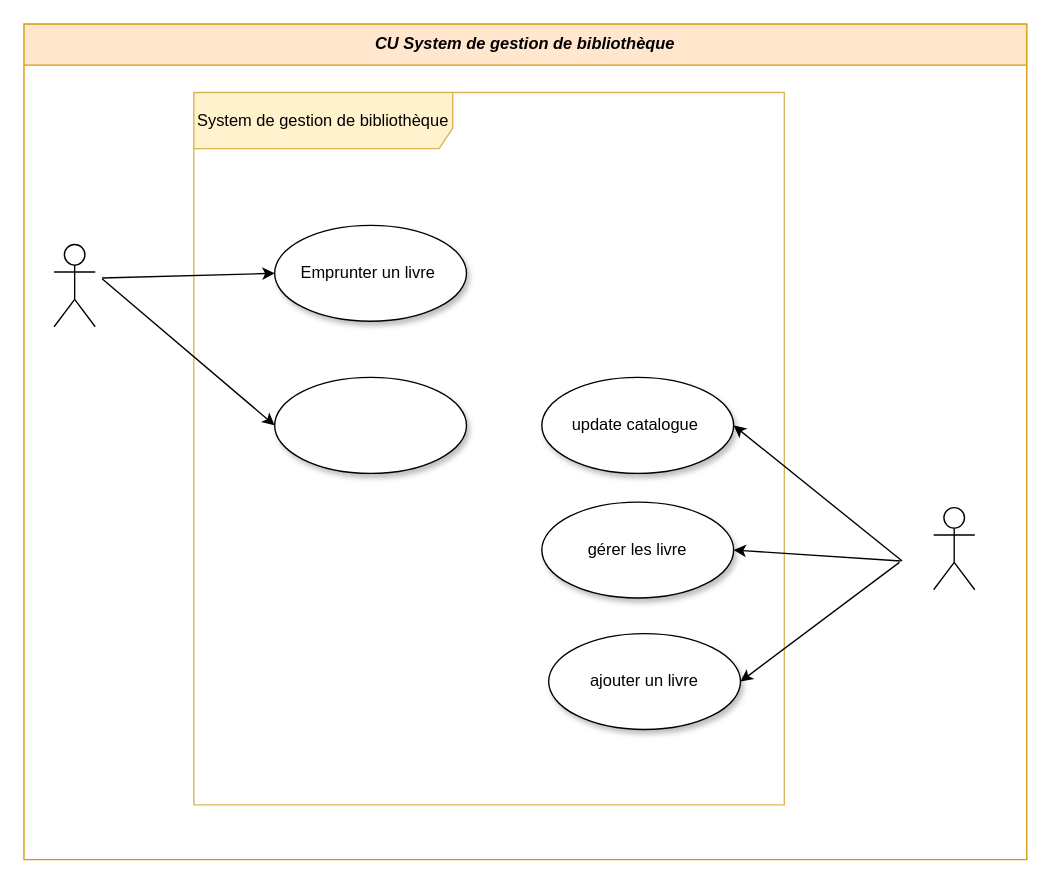
Image size: 1051x884. Some labels were removed from this diagram. Here are the shapes that lost their labels. From the top down, the centre of each, then its label:
the point at 74,285: Member
the point at 371,427: Retourner un livre
the point at 953,548: bibliothécaire
